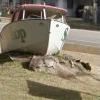Boat: (5, 1, 72, 58)
